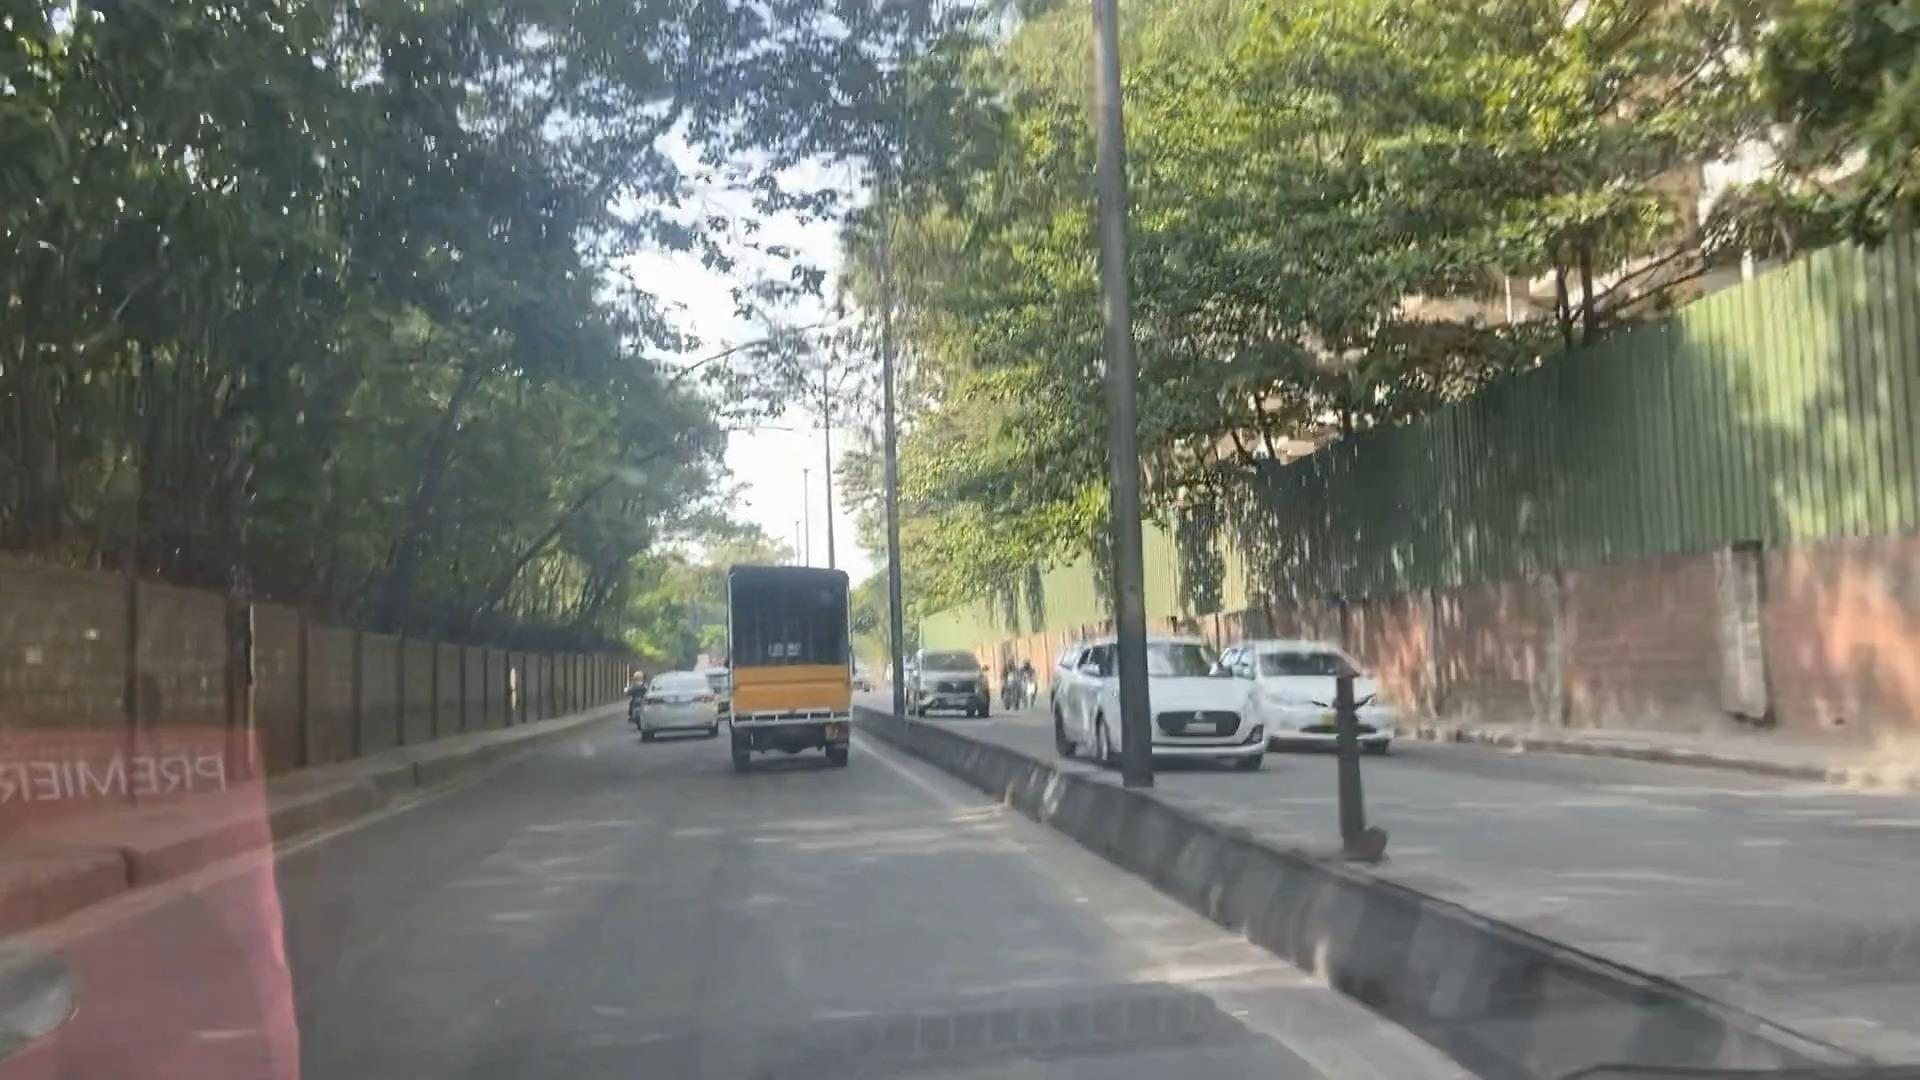HMV: (697, 547, 870, 791)
